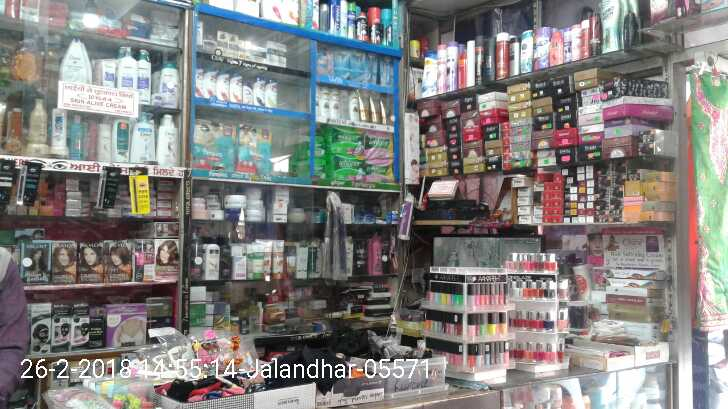gillete: (381, 8, 392, 47), (371, 8, 381, 44), (349, 1, 357, 41)
venus: (349, 51, 367, 82), (335, 46, 349, 82), (319, 46, 335, 74), (367, 51, 380, 85), (380, 56, 394, 85)
